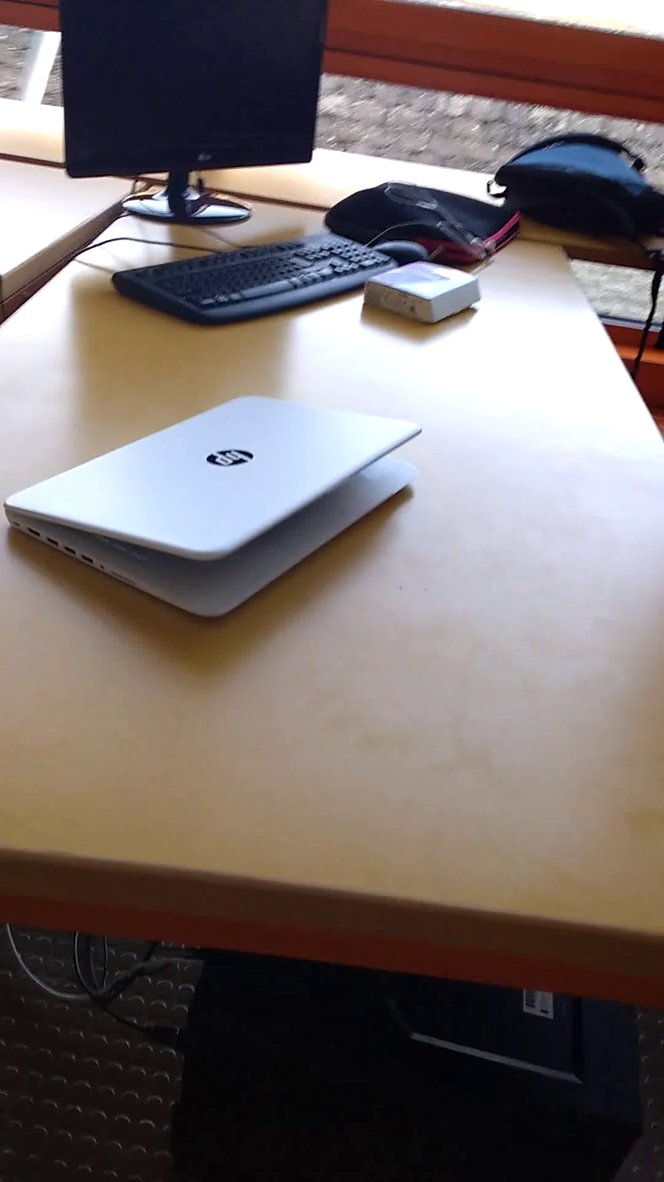laptop: (2, 366, 443, 656)
